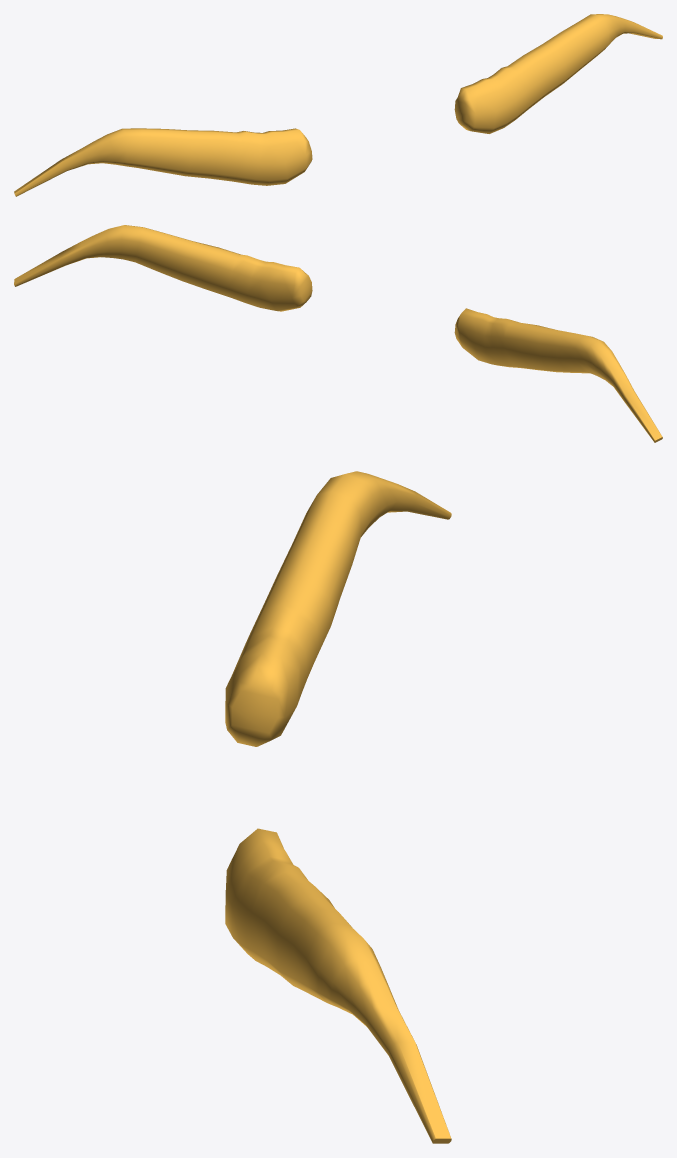
Rendered from Eyebrows_08_05.fbx.
3 renders of one model, top to bottom at view 1: azimuth 30°, elevation 25°; view 2: azimuth 150°, elevation 25°; view 3: azimuth 270°, elevation 25°, orthographic. The views are drawn at different scales.
Visible parts, largest first — view 1: Eyebrows_08_05; view 2: Eyebrows_08_05; view 3: Eyebrows_08_05.
Boxes of the visible parts, x1,y1,x2,y2 form: Eyebrows_08_05: (14, 14, 662, 196); Eyebrows_08_05: (14, 225, 662, 442); Eyebrows_08_05: (225, 471, 451, 1143).
Size of the model in its own units: 19.15 by 1.96 by 2.9.
